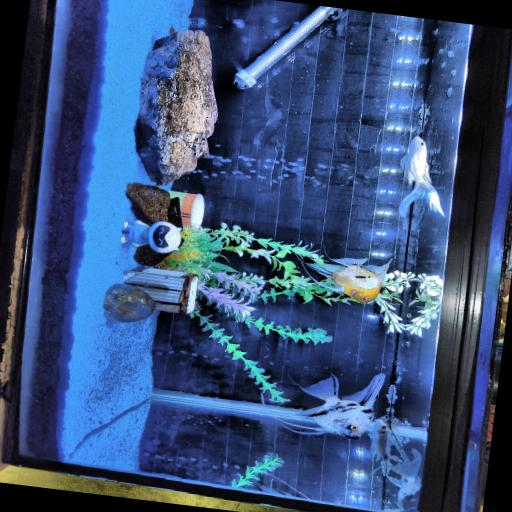Fish: (275, 373, 383, 438), (305, 257, 391, 303), (399, 135, 443, 216), (386, 447, 421, 501), (370, 418, 389, 465)
